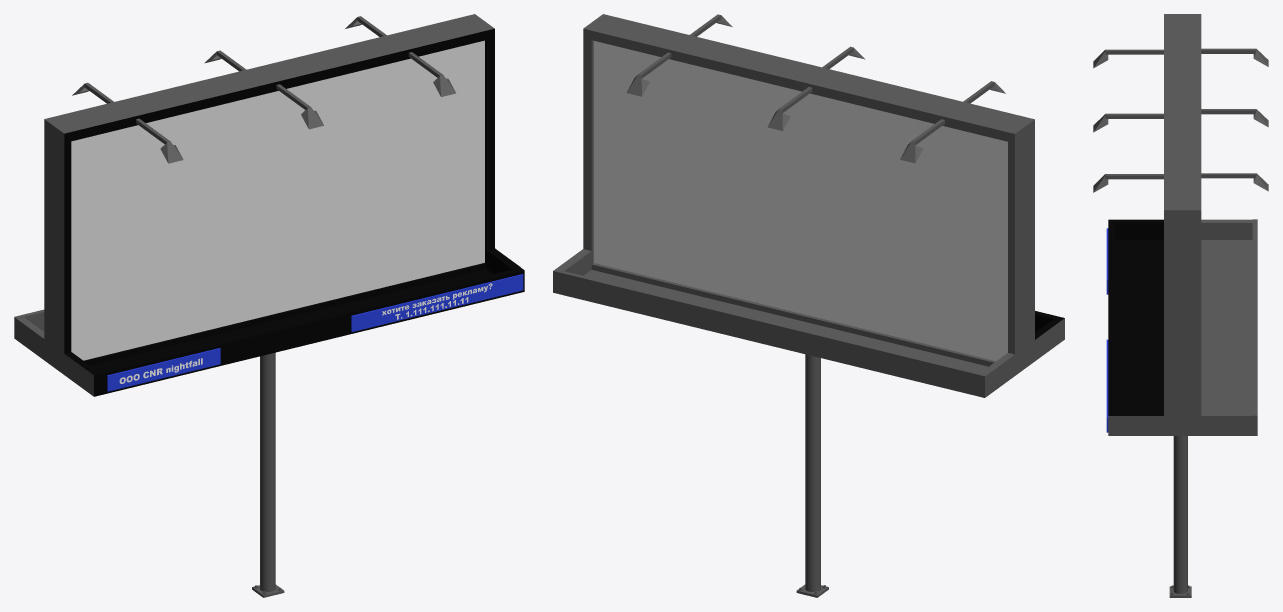
The model's file is buildord.glb.
The picture shows the model from 3 angles, left to right: view 1: azimuth 30°, elevation 25°; view 2: azimuth 150°, elevation 25°; view 3: azimuth 270°, elevation 25°; orthographic projection. The views are drawn at different scales.
Visible parts, largest first — view 1: Plane, Cube.001, Cylinder.001, Cube.008, Cube.009; view 2: Plane.001, Cube.001, Cylinder.001; view 3: Cube.001, Cylinder.001, Cube.004, Cube.002, Cube.003, Cube.005, Cube.006, Cube.007, Cube.008.
Part boxes in pixels (x1,y1,x2,y2): Plane: (71, 40, 484, 360); Cube.001: (14, 14, 524, 396); Cylinder.001: (260, 352, 275, 591); Cube.008: (351, 274, 523, 331); Cube.009: (107, 348, 220, 391); Plane.001: (593, 41, 1007, 360); Cube.001: (553, 14, 1064, 397); Cylinder.001: (805, 354, 820, 591); Cube.001: (1108, 14, 1257, 435); Cylinder.001: (1173, 436, 1187, 593); Cube.004: (1093, 174, 1163, 192); Cube.002: (1093, 113, 1163, 132); Cube.003: (1093, 49, 1163, 68); Cube.005: (1201, 48, 1268, 66); Cube.006: (1201, 173, 1268, 191); Cube.007: (1201, 109, 1268, 127); Cube.008: (1106, 339, 1108, 432).
Bounding box in the file's own units: 0.8838 × 1.01 × 0.3334.
